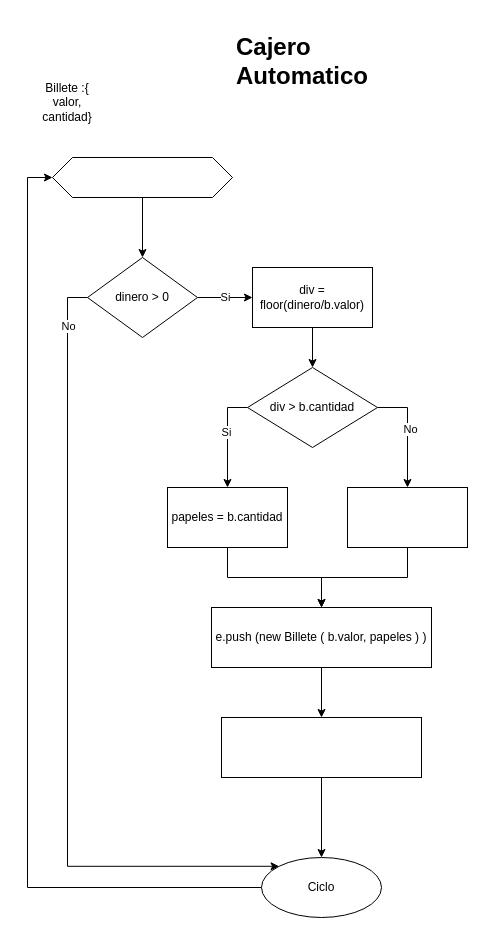
This 485x935 diagram has some shape labels left out. Here are the shapes that lost their labels. From the top down, the centre of each, then its label:
(x=142, y=177): for b of caja
(x=407, y=517): papeles = div
(x=321, y=747): dinero = dinero - (b.valor * papeles)
